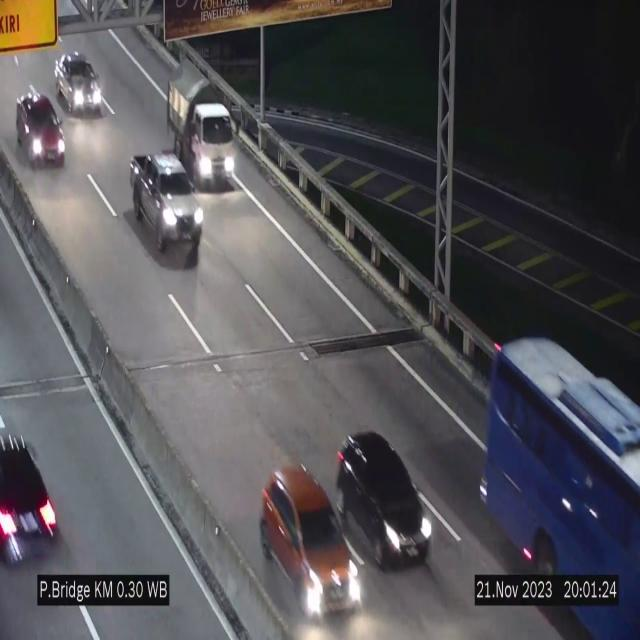Bus: (478, 325, 640, 640)
Car: (260, 462, 360, 616), (334, 423, 434, 572), (0, 414, 73, 583), (130, 153, 203, 252), (14, 86, 70, 172), (52, 48, 107, 120)
Truck: (167, 68, 235, 188)
